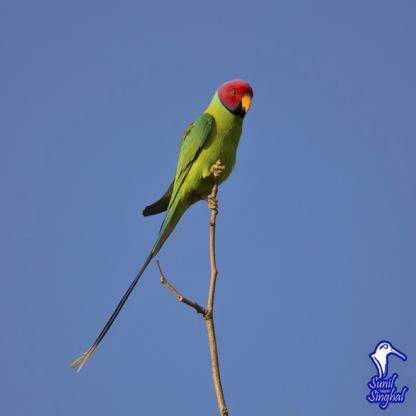Burung: (69, 78, 252, 373)
